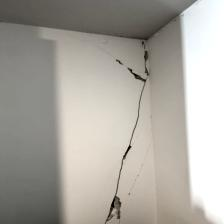High: (97, 38, 156, 224)
